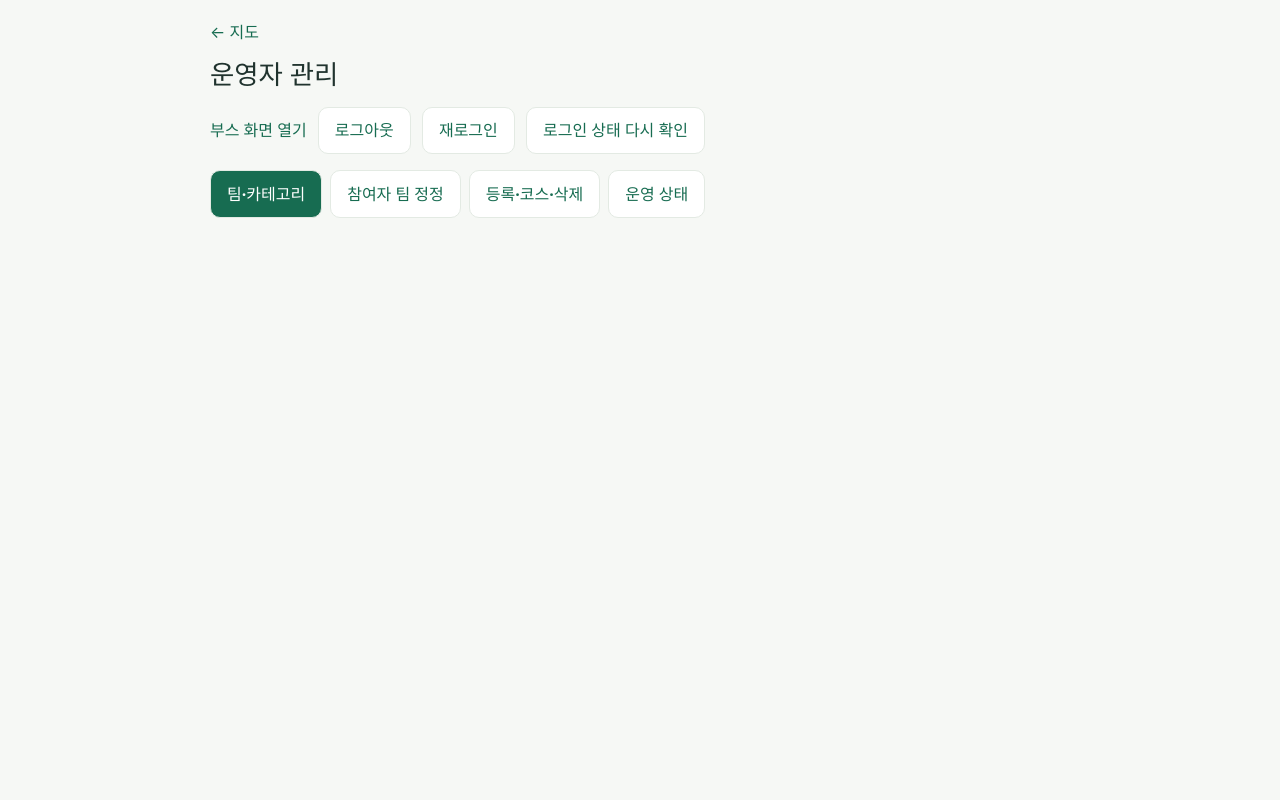
Test: keeps an uncertain deletion after its target card disappears, then explicitly replays the exact command
The image size is (1280, 800).
What coordinates should you click on to do the following:
click the button "등록·코스·삭제"
I would click on:
 (535, 194)
Its box is [469, 170, 600, 218].
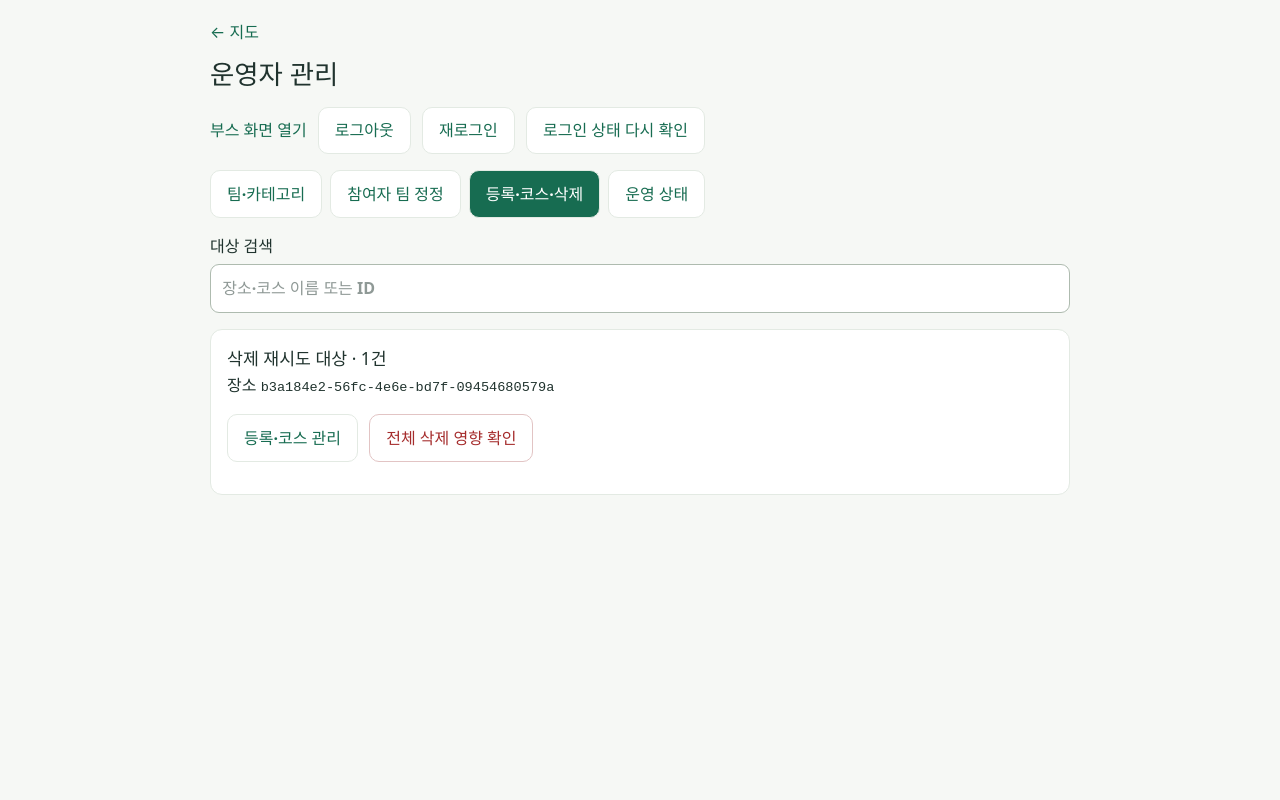
What coordinates should you click on to do the following:
click the button "전체 삭제 영향 확인"
I would click on:
 (451, 438)
Its box is [369, 414, 534, 462].
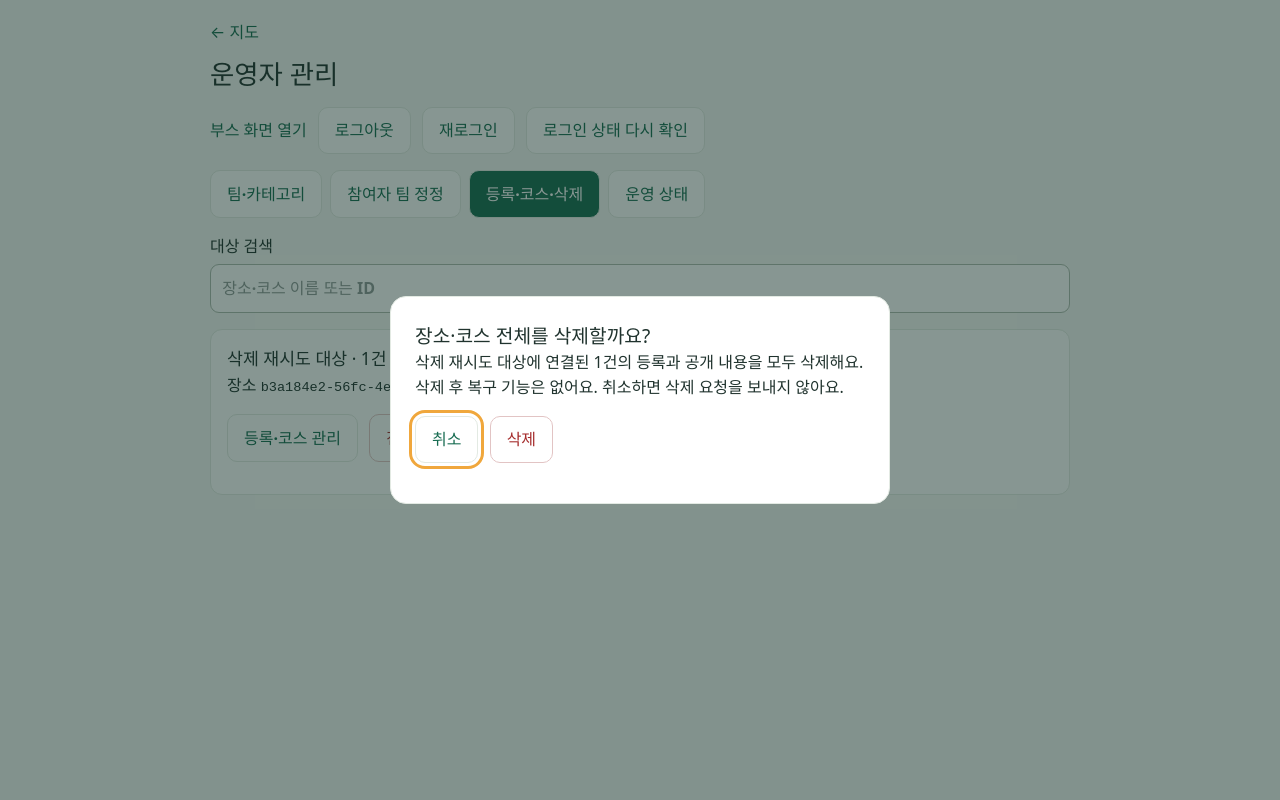
What coordinates should you click on to do the following:
click the button "삭제"
I would click on:
 (521, 440)
Its box is [490, 416, 553, 464].
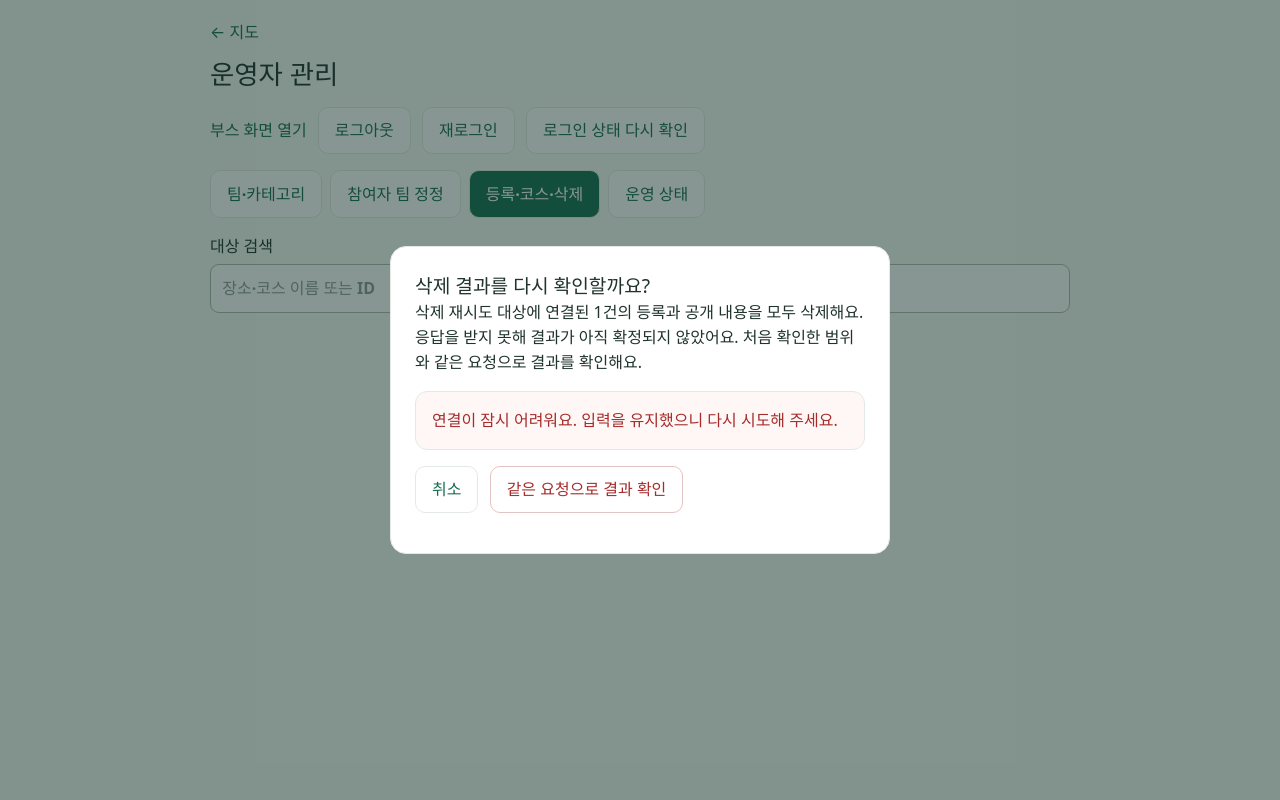
Check: the button "같은 요청으로 결과 확인" is shown
Check: the button "전체 삭제 영향 확인" is gone
Check: the message shows "연결이 잠시 어려워요", box [432, 409, 838, 431]
What coordinates should you click on to do the following:
click the button "같은 요청으로 결과 확인"
I would click on:
 (586, 490)
Its box is [490, 466, 683, 513].
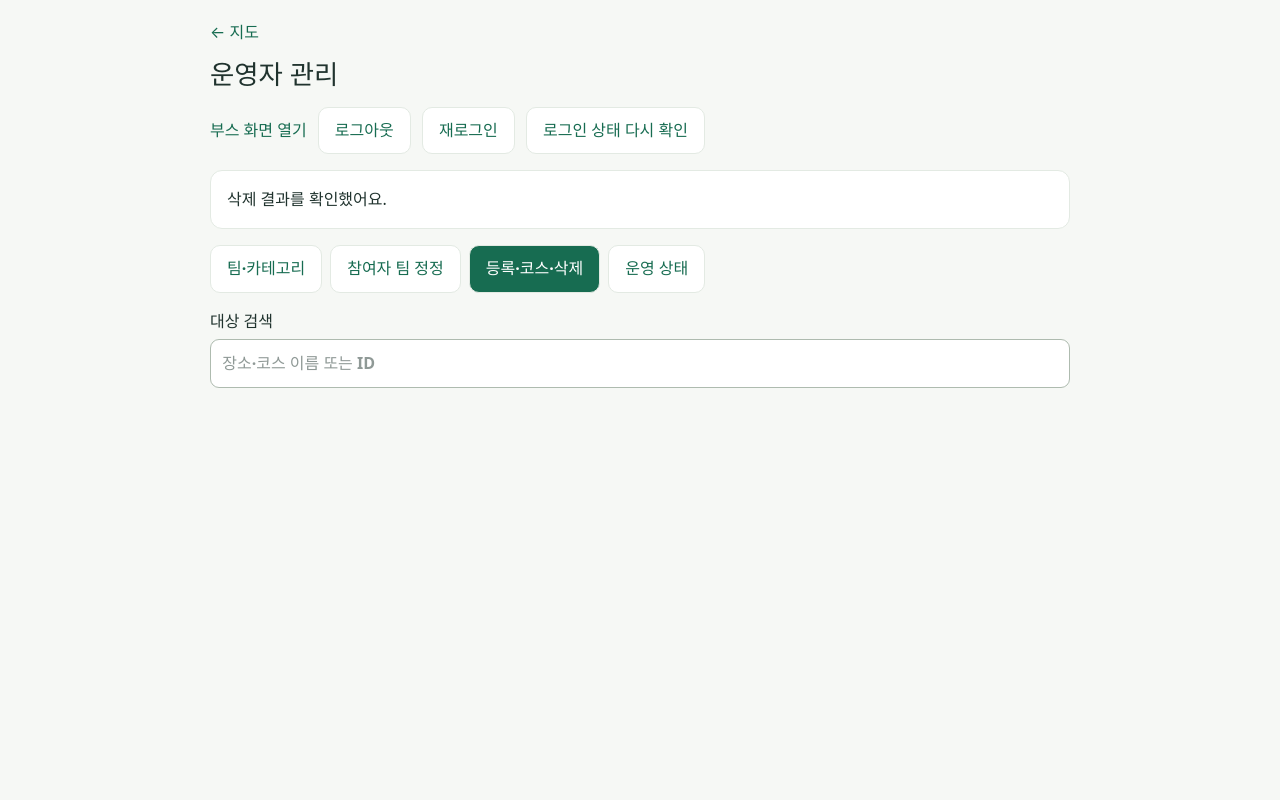
Check: the text "삭제 결과를 확인했어요." is shown, box [210, 170, 1070, 229]
Check: the dialog is gone
